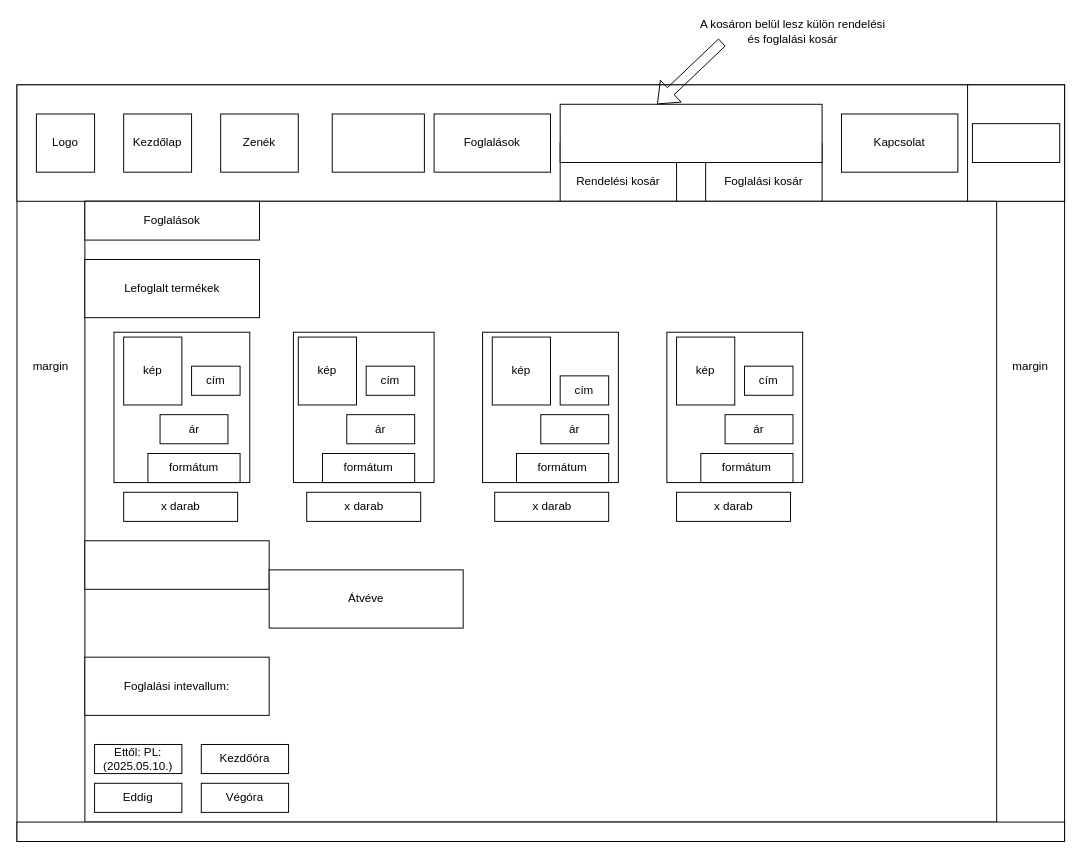
This 1082x858 diagram has some shape labels left out. The centre of each missing label's shape, as x and y in pixels:
"Filmek/Sorozatok" goes at point (377, 142).
"Fiók bej/reg" goes at point (1015, 142).
"Footer" goes at point (540, 831).
"Kosár" goes at point (690, 132).
"Státusz:" goes at point (176, 564).
